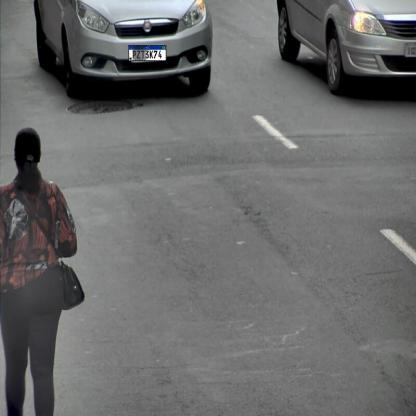PlacaM: (128, 45, 166, 61)
